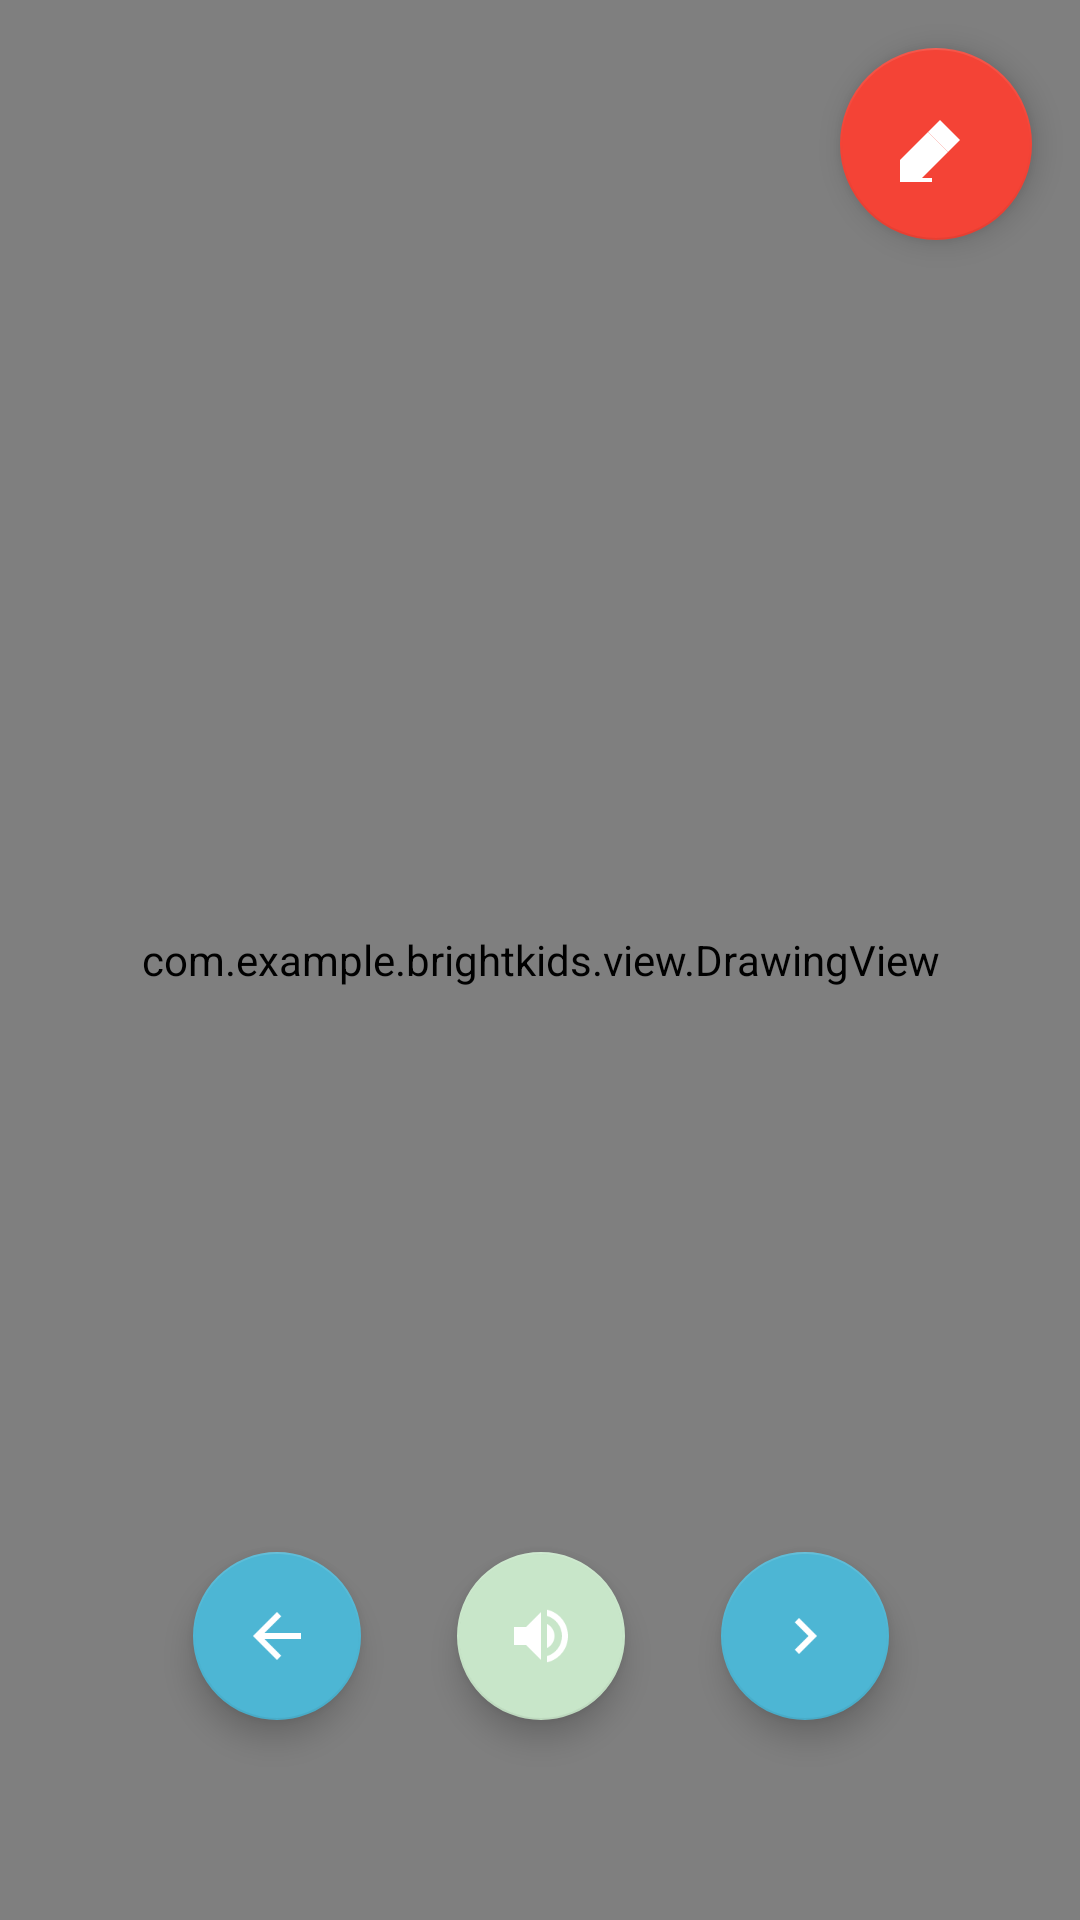

Named icons in this screenshot (1080 x 1920) and their bounding boxes, (x1, y1, x2, y2):
Retour: (193, 1552, 361, 1720)
Suivant: (721, 1552, 889, 1720)
Écouter le son: (457, 1552, 625, 1720)
